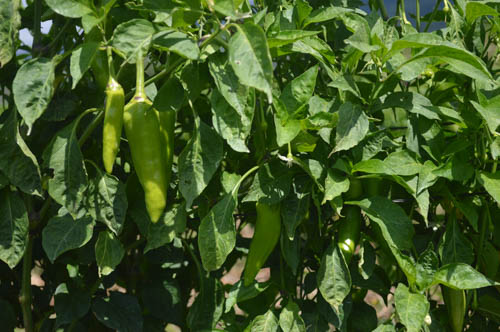ChiliPepper: (126, 105, 166, 223), (234, 203, 278, 290), (99, 89, 123, 178), (335, 207, 360, 267), (443, 288, 465, 329)
